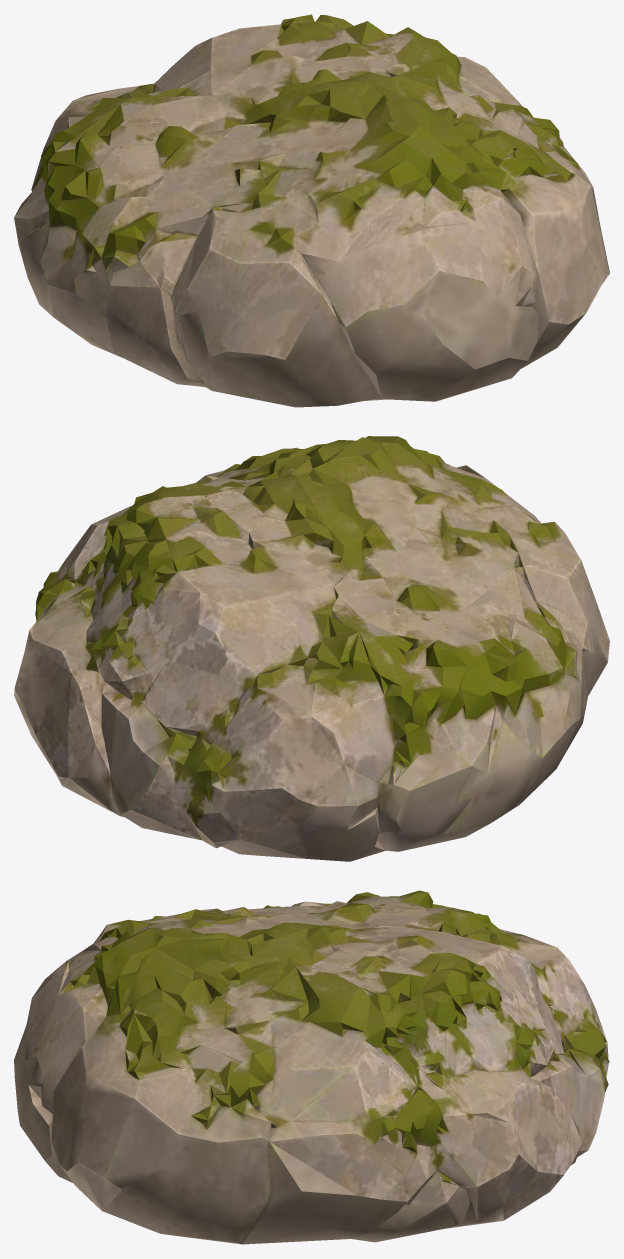
Rendered from boulder.glb.
3 renders of one model, top to bottom at view 1: azimuth 30°, elevation 25°; view 2: azimuth 150°, elevation 25°; view 3: azimuth 270°, elevation 25°, orthographic. The views are drawn at different scales.
Bounding box in the file's own units: 1.76 × 0.8261 × 1.9.
1 material, 1 textured.
